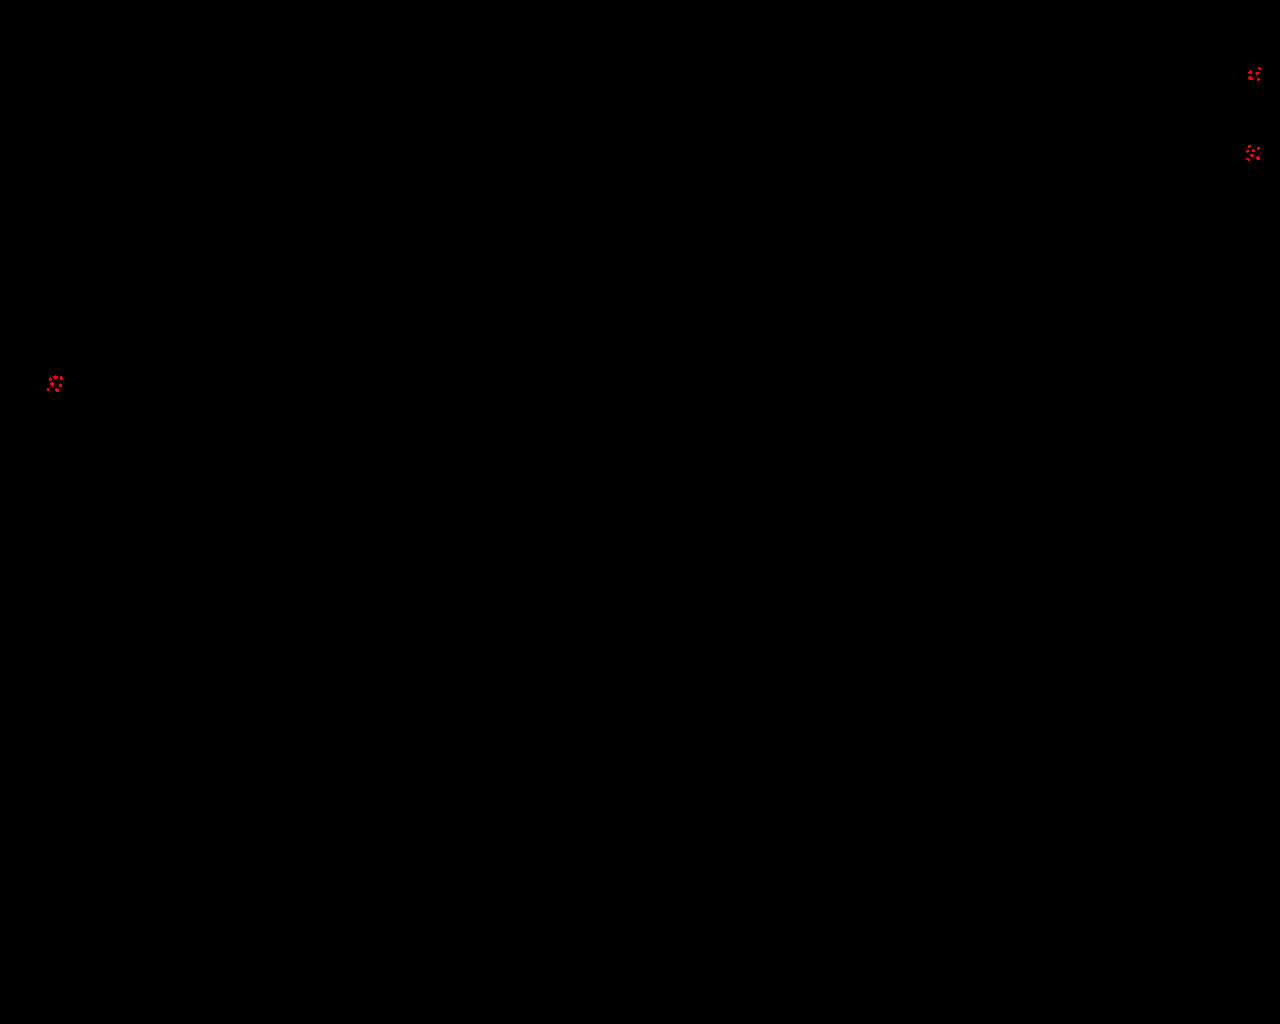Target: (1248, 76, 1253, 80), (53, 375, 59, 379), (1248, 70, 1252, 74), (1256, 156, 1260, 160), (50, 382, 54, 387), (1255, 72, 1259, 75), (1250, 154, 1254, 157), (1246, 158, 1250, 161), (60, 376, 63, 380), (49, 377, 52, 381), (55, 388, 59, 392), (1258, 67, 1261, 70), (1257, 78, 1260, 82), (1248, 145, 1251, 148), (1257, 147, 1260, 150), (47, 388, 50, 391), (1252, 149, 1255, 152), (1246, 150, 1249, 153), (59, 385, 62, 387)
